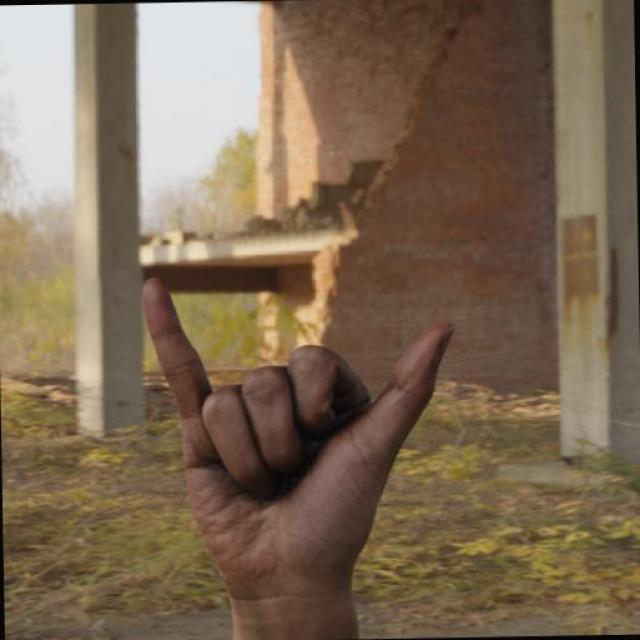Y: (137, 249, 476, 630)
